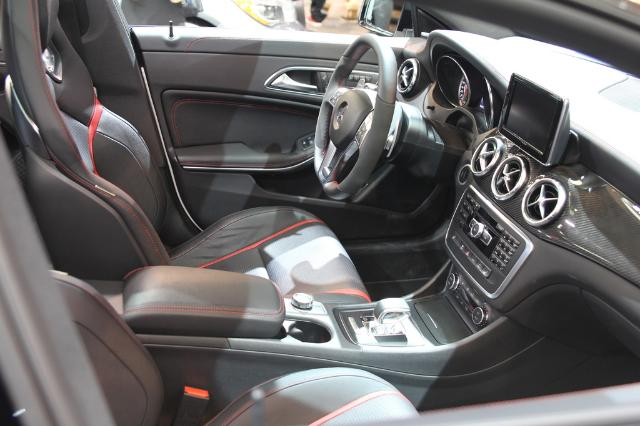Seatbelt: (58, 0, 86, 64)
